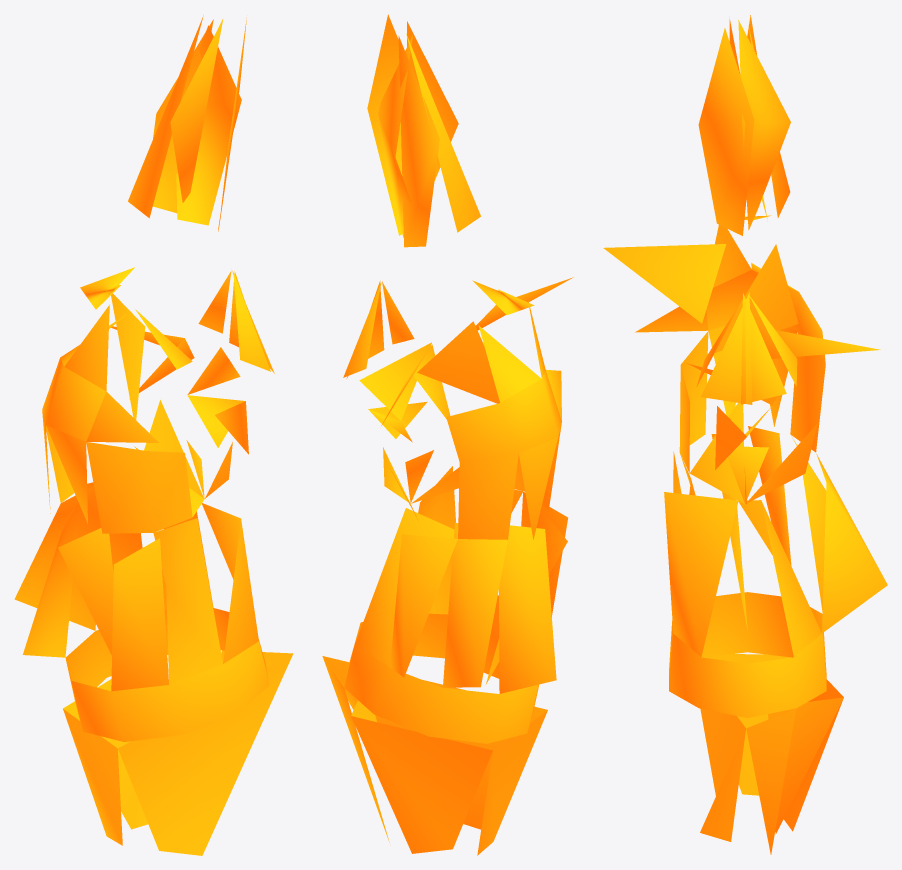
Rendered from fire.glb.
3 renders of one model, left to right at view 1: azimuth 30°, elevation 25°; view 2: azimuth 150°, elevation 25°; view 3: azimuth 270°, elevation 25°, orthographic. The views are drawn at different scales.
Parts seen in each view (by area): view 1: flame01; view 2: flame01; view 3: flame01.
Part boxes in pixels (x1,y1,x2,y2): flame01: [14, 15, 293, 855]; flame01: [322, 14, 573, 855]; flame01: [603, 15, 887, 854].
Bounding box in the file's own units: 1.18 × 3.66 × 1.12.
